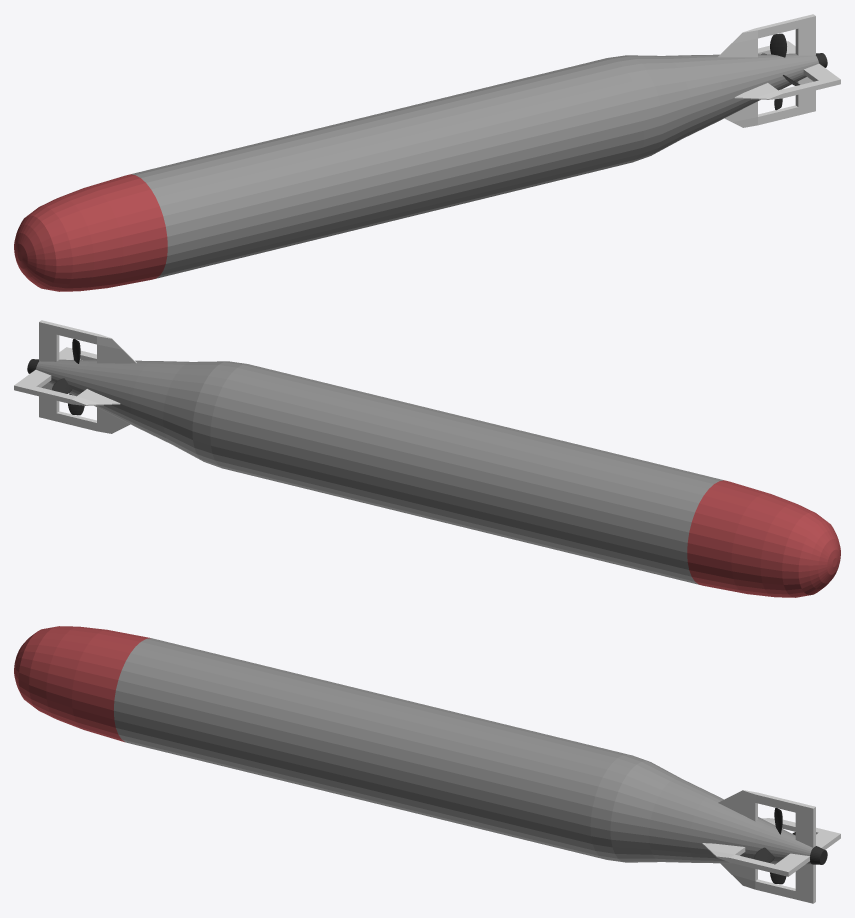
Rendered from Knifefish UUV.glb.
3 views of the same model, one above another, from view 1: azimuth 30°, elevation 25°; view 2: azimuth 150°, elevation 25°; view 3: azimuth 330°, elevation 25° (orthographic).
Size of the model in its own units: 4.38 by 0.5103 by 0.5103.
